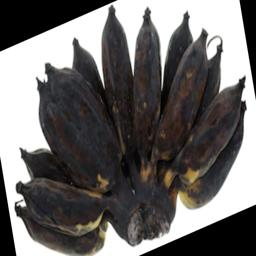Banana Rotten: (11, 20, 256, 256)
